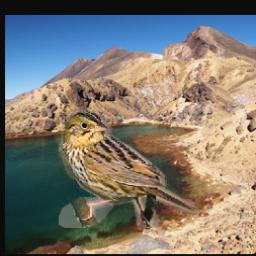Sparrow: (60, 110, 200, 229)
